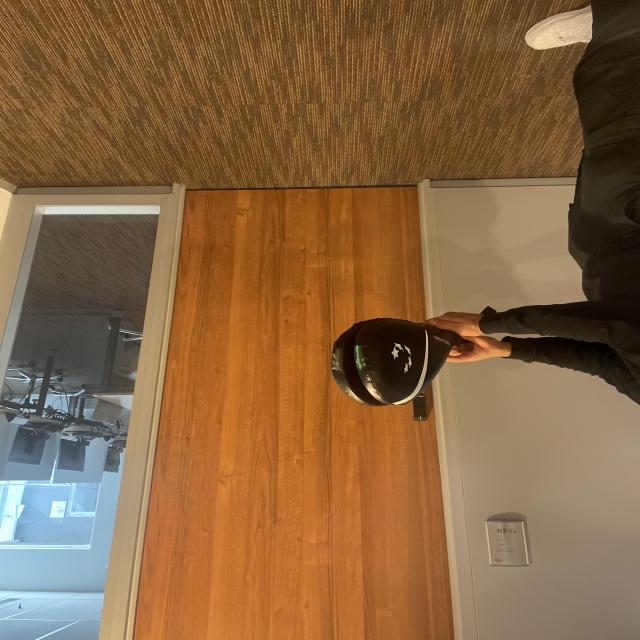paddle: (335, 318, 454, 411)
trigger: (353, 343, 363, 374)
